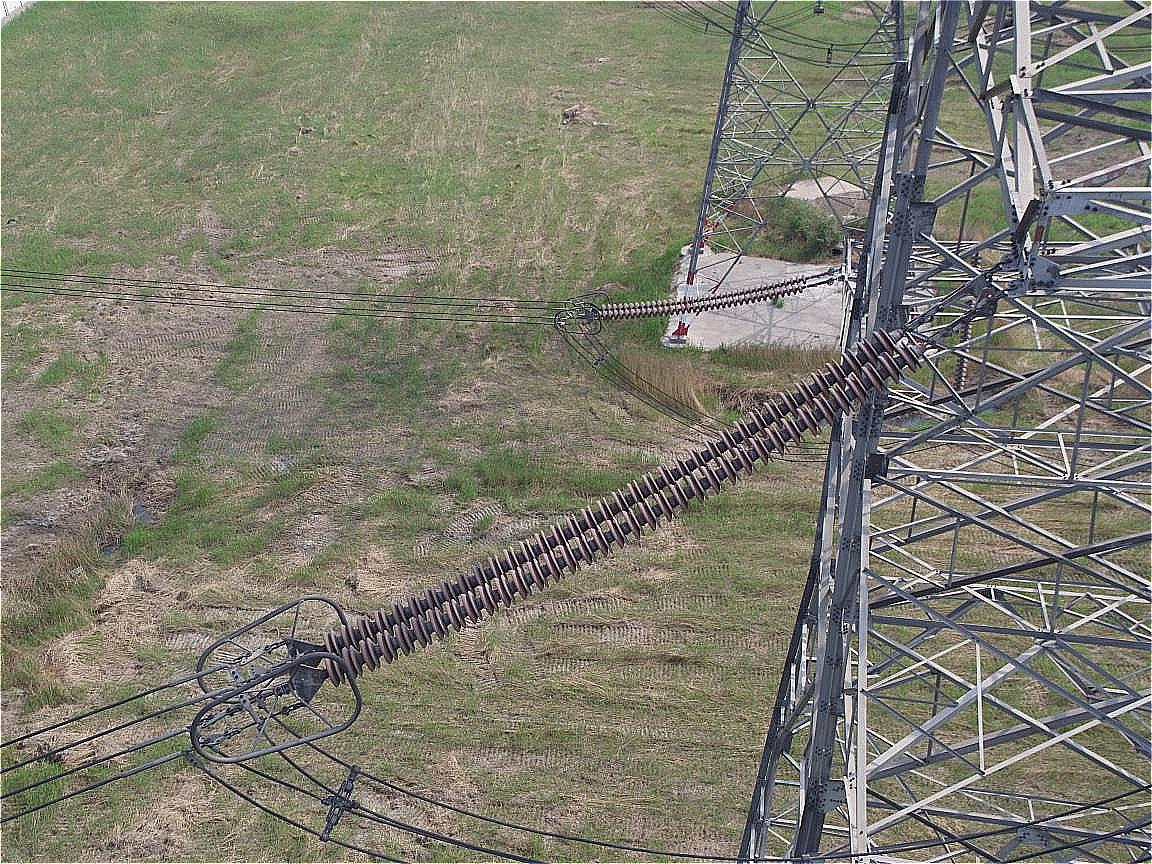insultor1: (565, 255, 818, 322)
insultor2: (293, 313, 928, 721)
